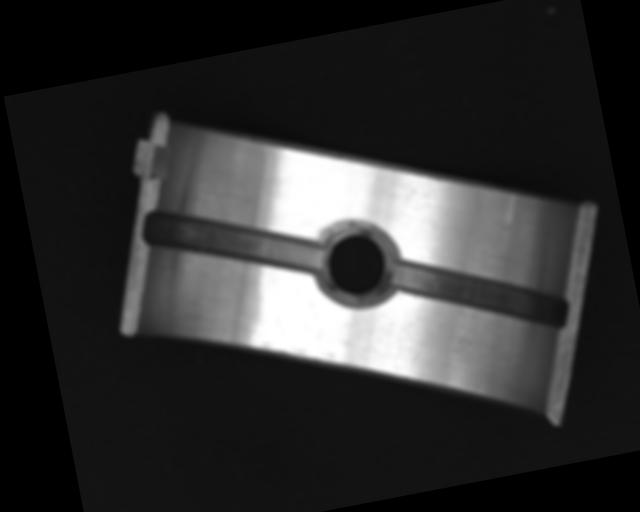gap: (385, 232, 573, 358), (141, 183, 324, 303)
hole: (312, 217, 401, 312)
